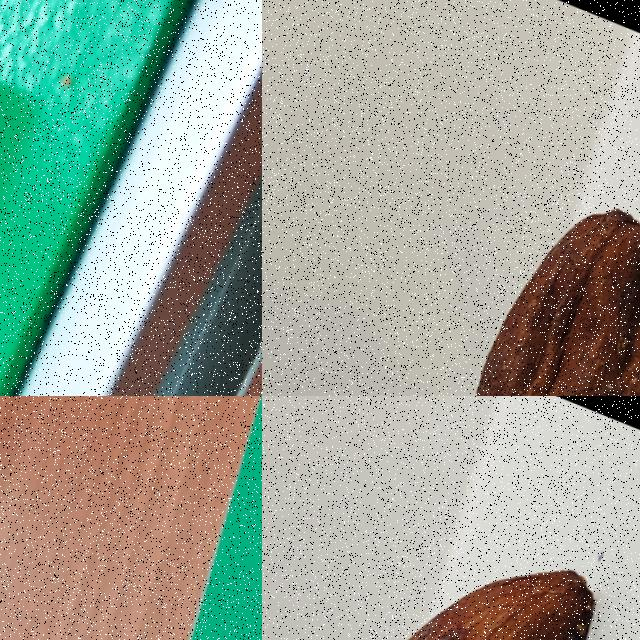Fine_cocoabeans: (394, 129, 639, 395), (291, 469, 639, 639)
Flat_cocoabeans: (0, 0, 95, 395)
